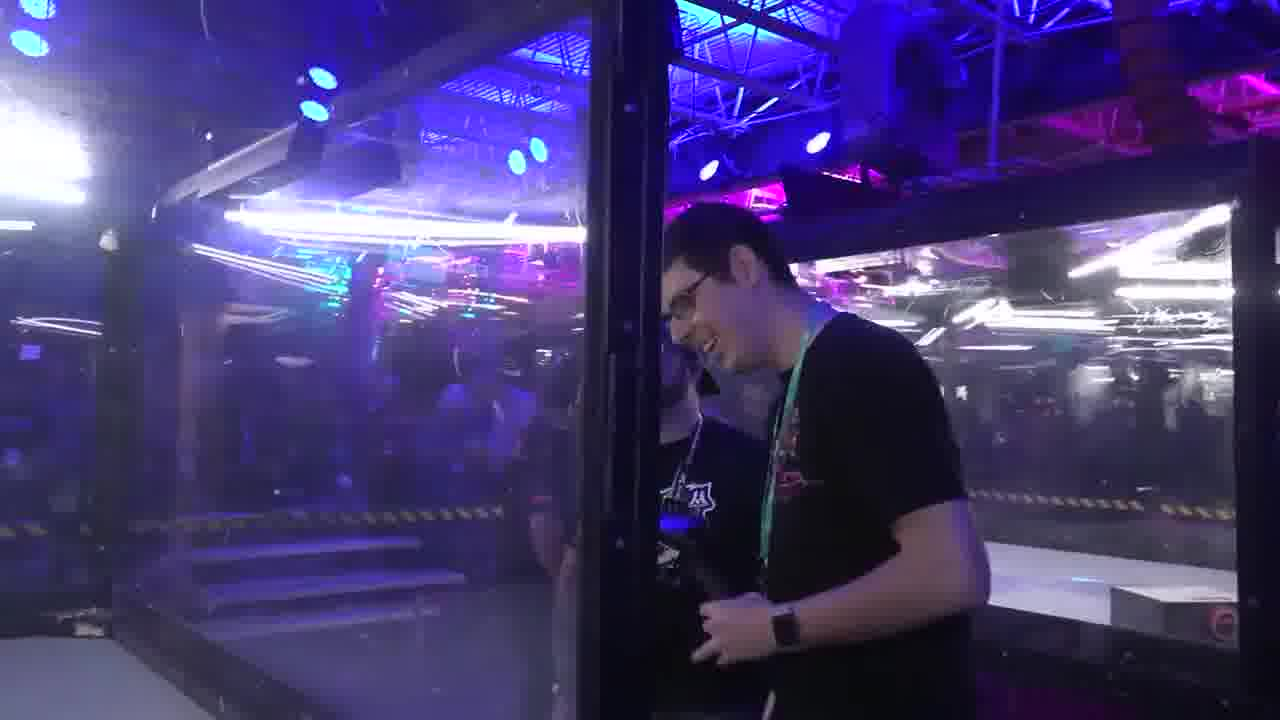housebot: (1107, 584, 1245, 649)
